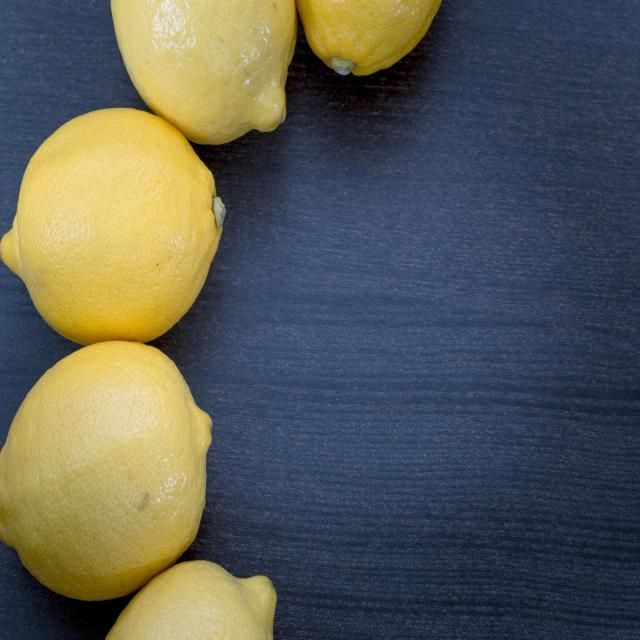lemon: (0, 332, 244, 610), (0, 99, 236, 354)
